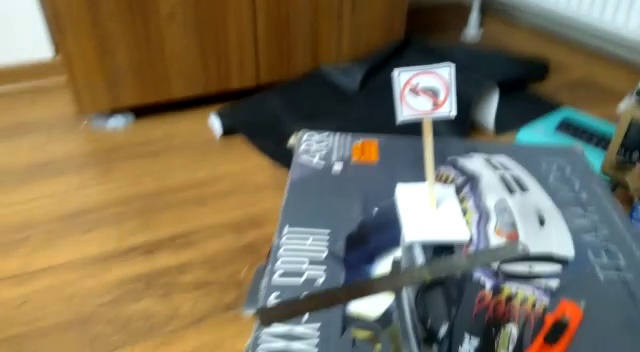sola_donulmez: (398, 67, 454, 117)
